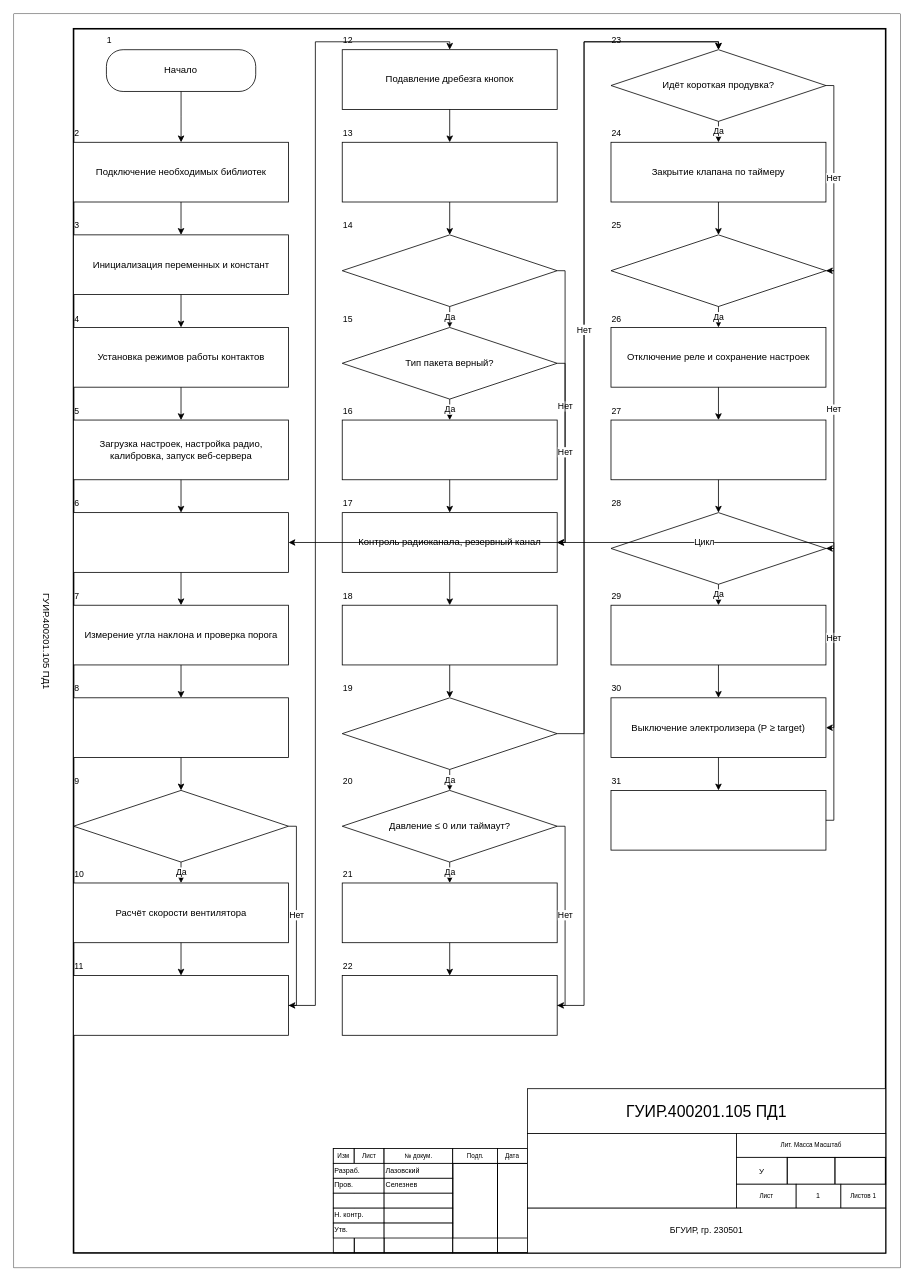
Some shapes in this 914 by 1281 pixel diagram are drawn without their labels. The shapes that lost their labels are listed below. From the top down, each one's centre as x and y in pixels, then its label:
[449,171]: Формирование команд по нажатиям
[449,270]: Принят пакет от пульта?
[718,270]: Выключение, блокировка, авария?
[449,449]: Исполнение принятой команды
[718,449]: Возврат к опросу состояний
[181,542]: Измерение давления и проверка аварийного порога
[718,548]: P < (target − гистерезис)?
[449,634]: Отправка пакета состояния на пульт
[718,634]: Включение электролизера
[181,727]: Измерение температуры
[449,733]: Идёт продувка до нуля?
[181,826]: Температура ≥ порога перегрева?
[718,820]: Обновление LED, дисплея, рассылка состояния
[449,912]: Закрытие клапана, конец продувки
[181,1005]: Опрос кнопок местного управления
[449,1005]: Продолжение продувки
[631,1170]: Микропроцессорное устройство дистанционного управления объектом Схема программы
